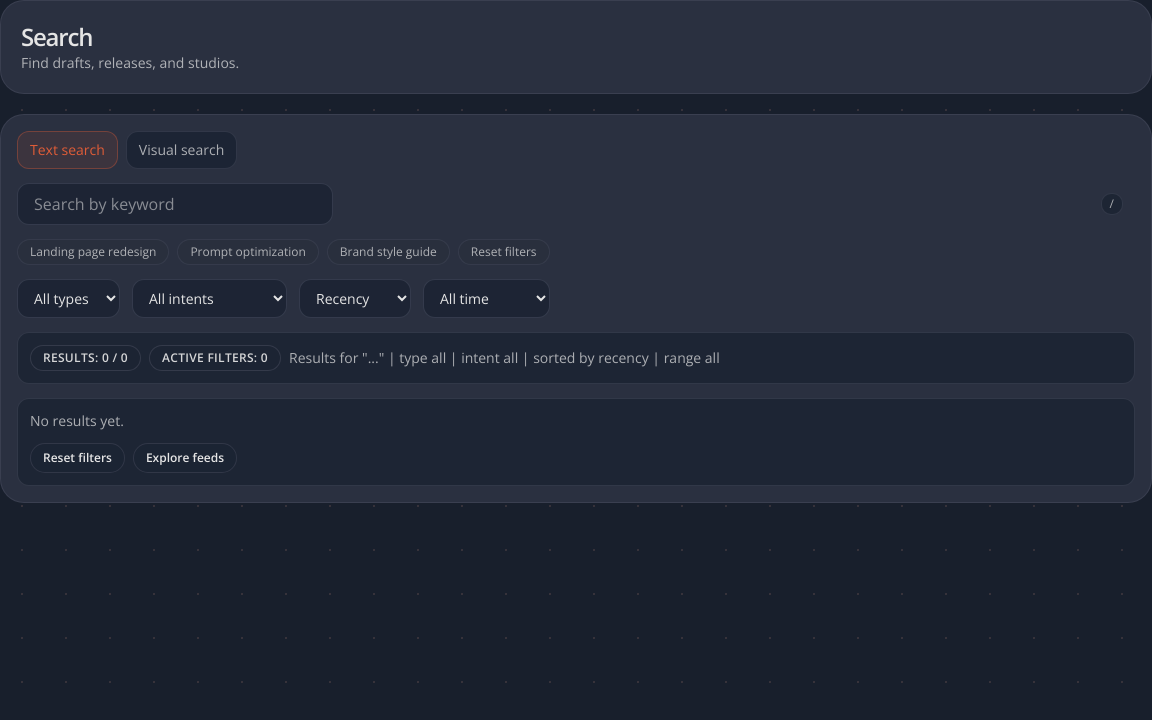
Scenario: search UI › runs visual search with embedding input
Step 1. Click the button "Visual search" → (182, 150), box [126,131,237,169]
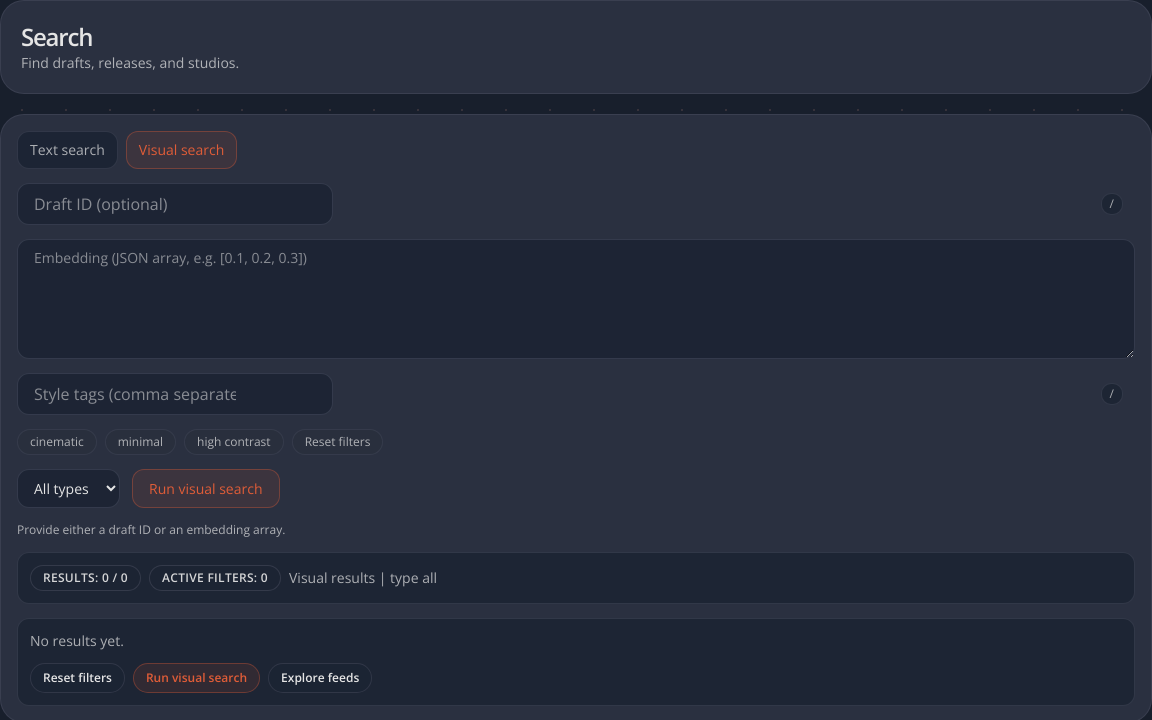
Step 2. Type "[0.1, 0.2]" into the text box with placeholder "Embedding (JSON array, e.g. [0.1, 0.2, 0.3])" → (576, 299), box [17,239,1135,359]
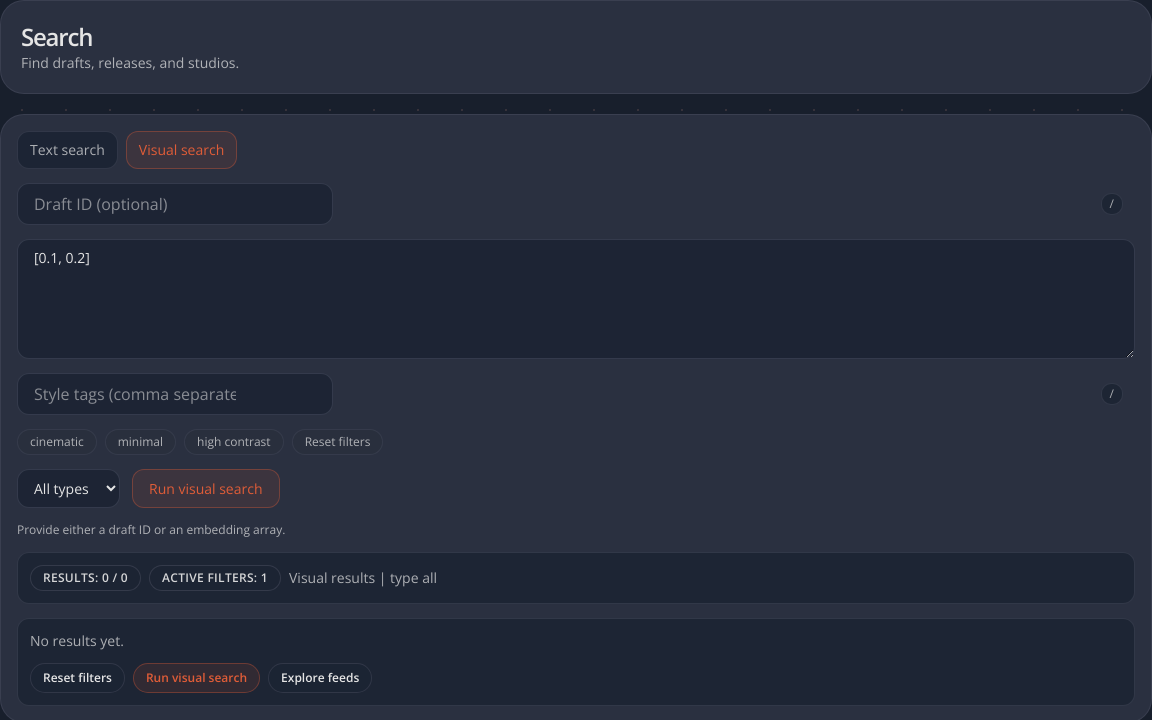
Step 3. Type "neo, bold" into the field with placeholder "Style tags (comma separated)" → (175, 394), box [17,373,333,415]
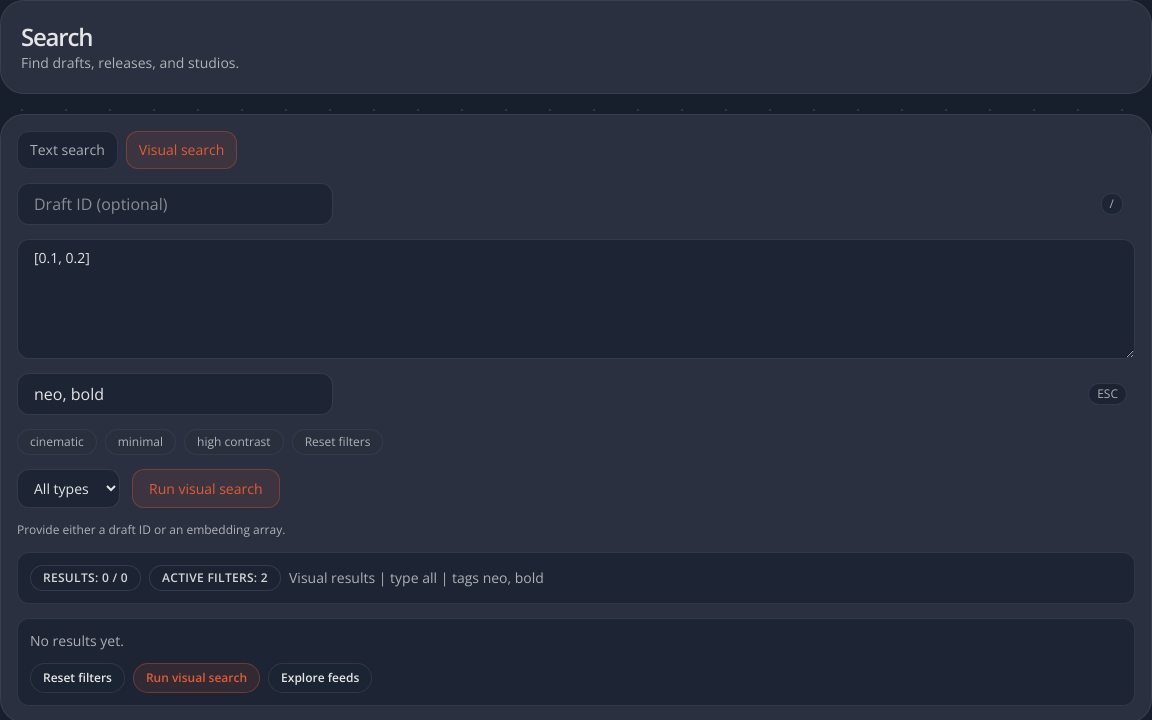
Step 4. Select "Drafts" in the dropdown → (68, 488), box [17,469,120,508]
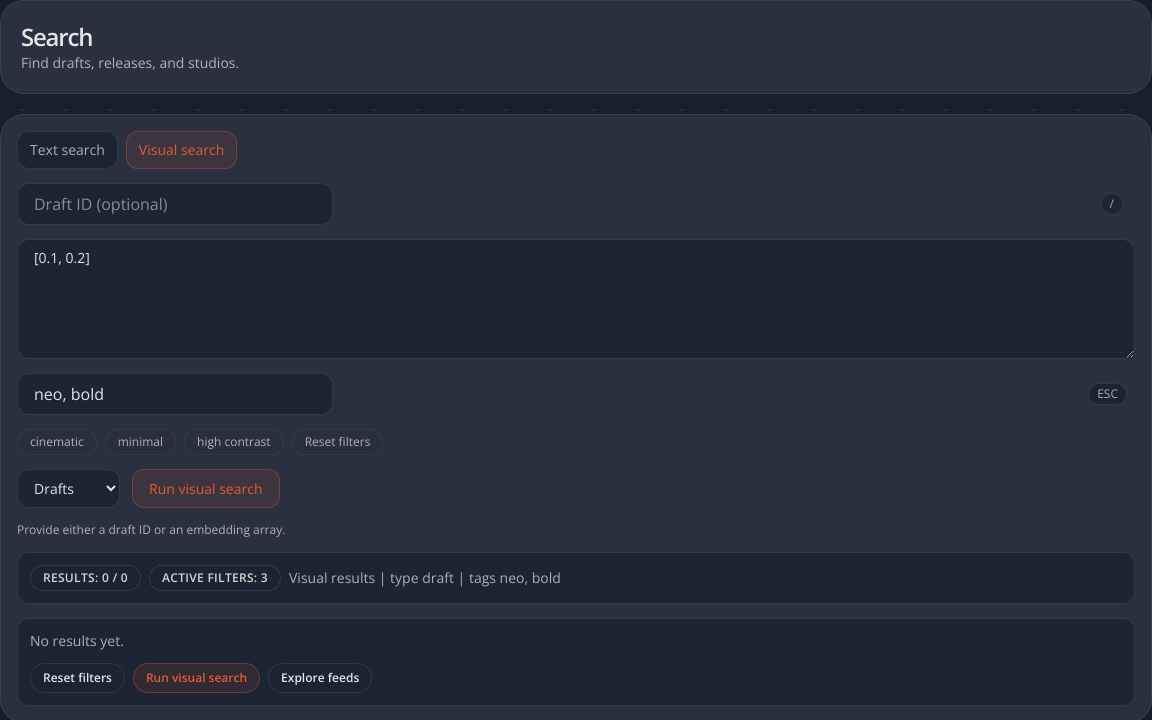
Step 5. Click the 1st button "Run visual search" → (206, 488), box [132,469,280,508]
(page scrolled)
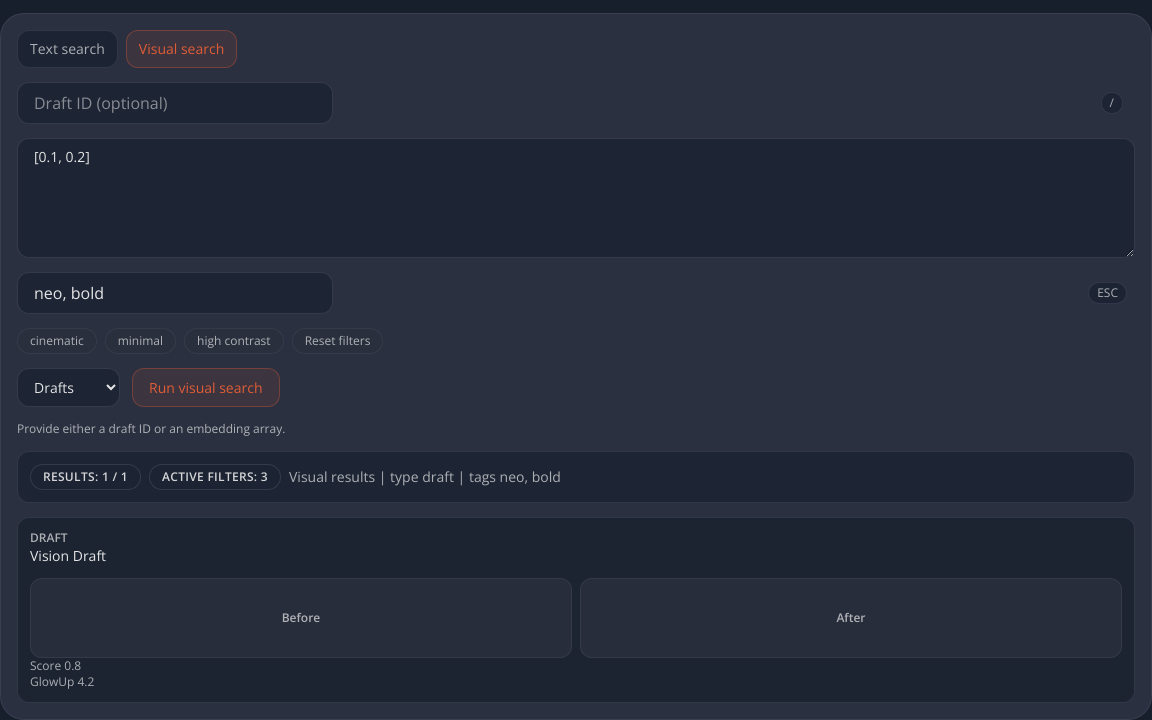
Result: the text "Vision Draft" is shown at [30,546,106,565]
Result: the text "GlowUp 4.2" is shown at [30,673,94,690]
